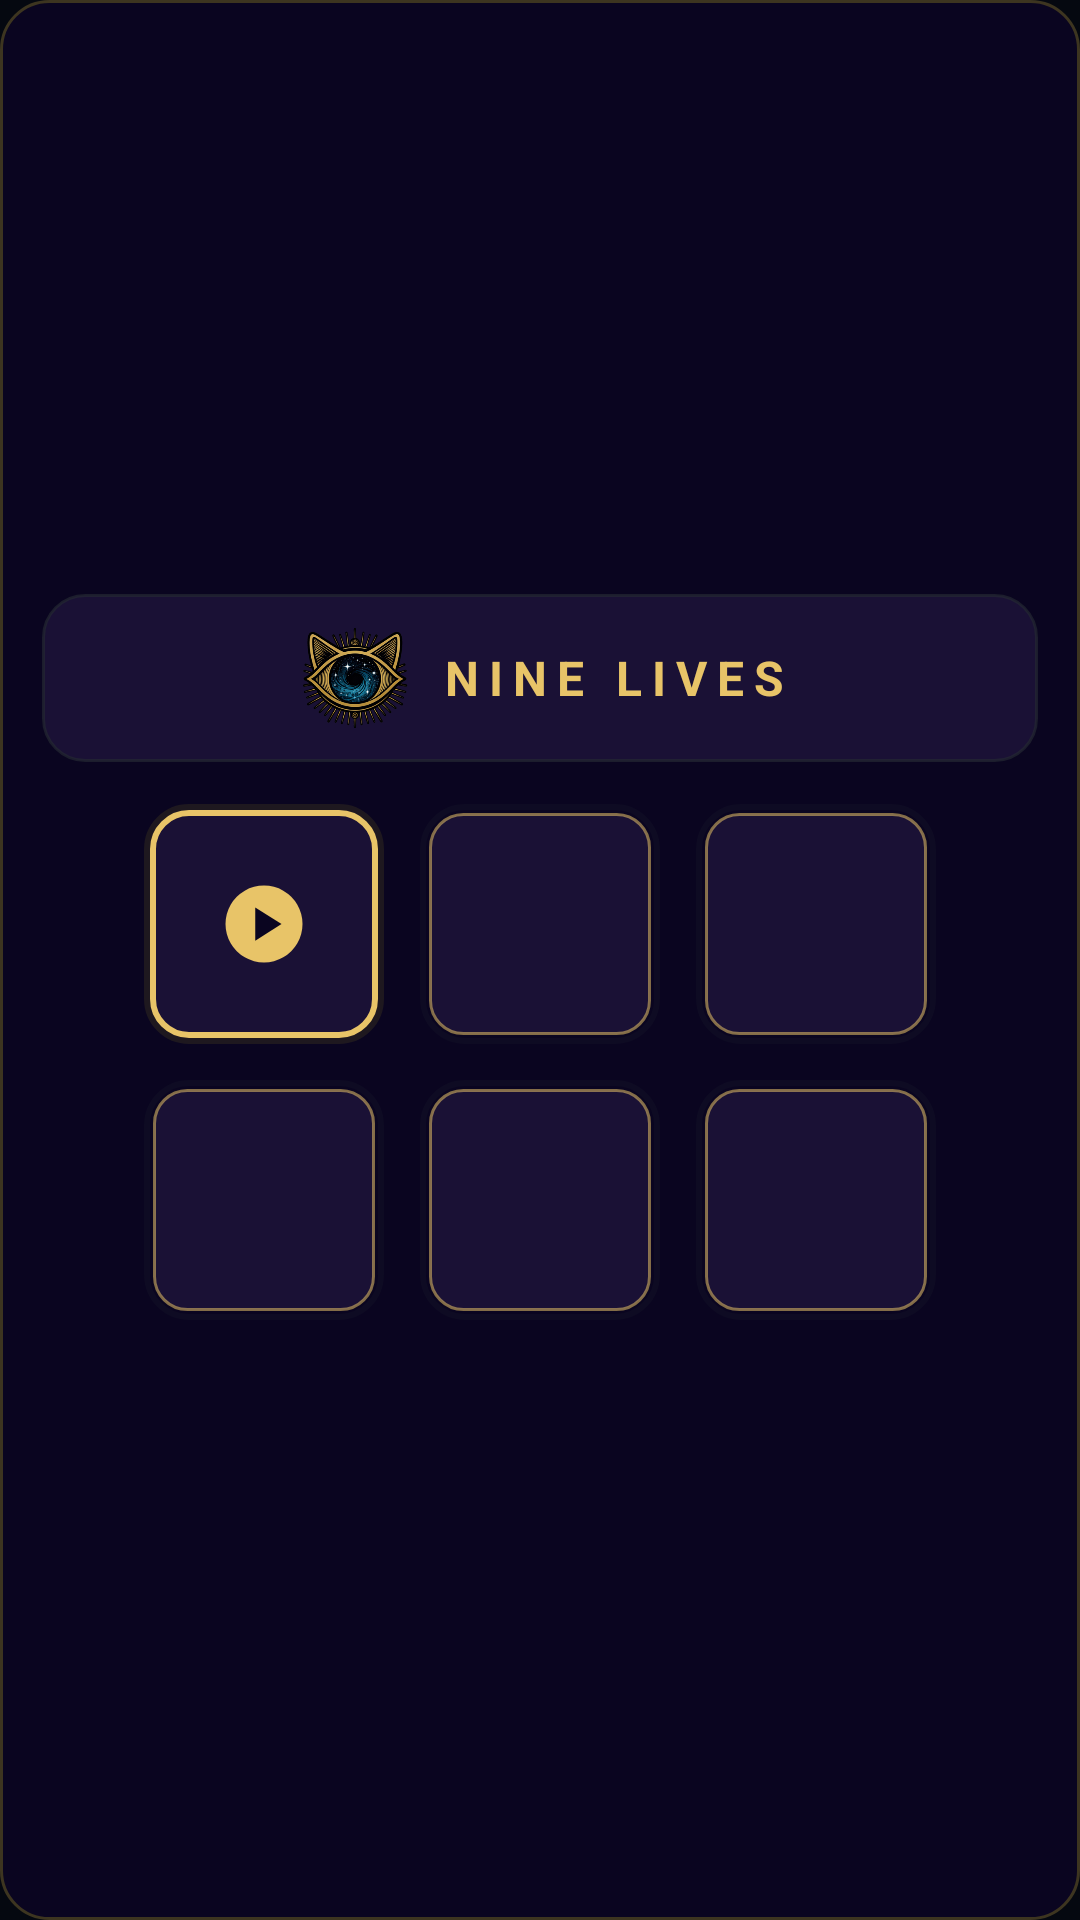

Icons on this 1080 x 1920 Android screen, each with the point to tap as (x,y):
widget eye: (355,678)
widget home play: (264,924)
